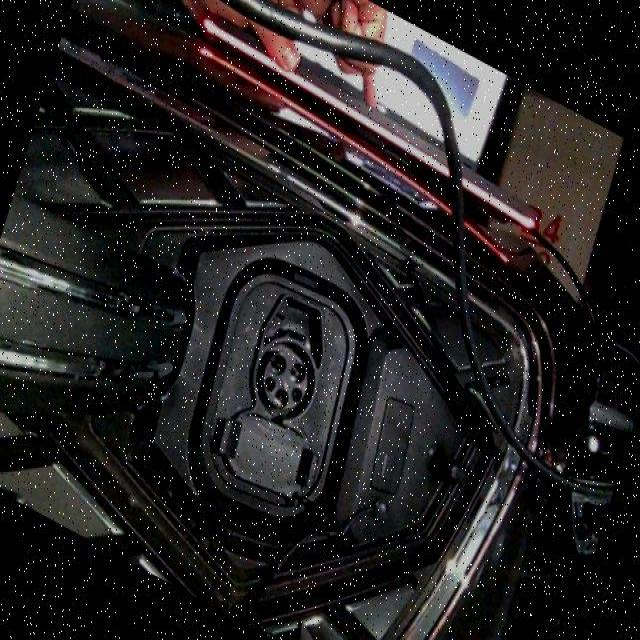Type 1: (249, 328, 334, 420)
